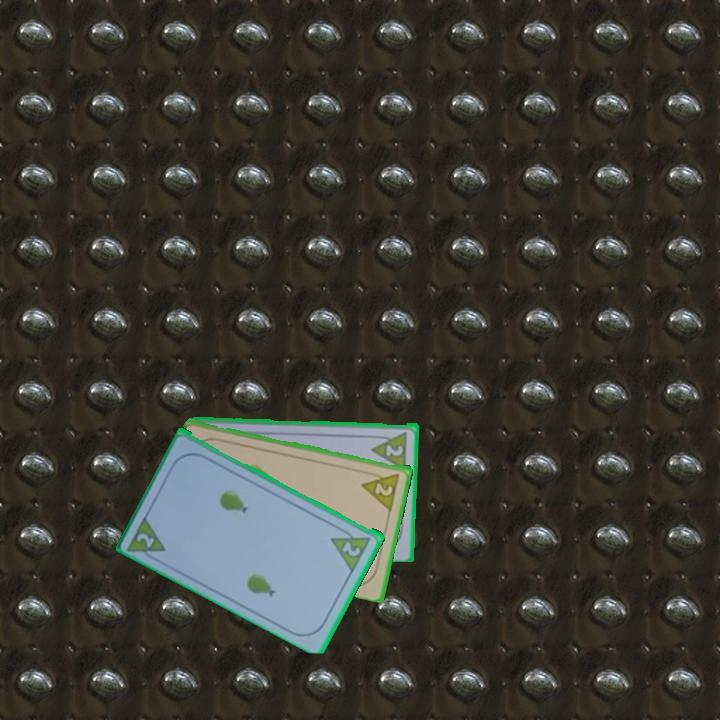2p: (359, 467, 403, 512), (369, 428, 410, 471), (133, 529, 158, 551), (339, 538, 364, 559)
